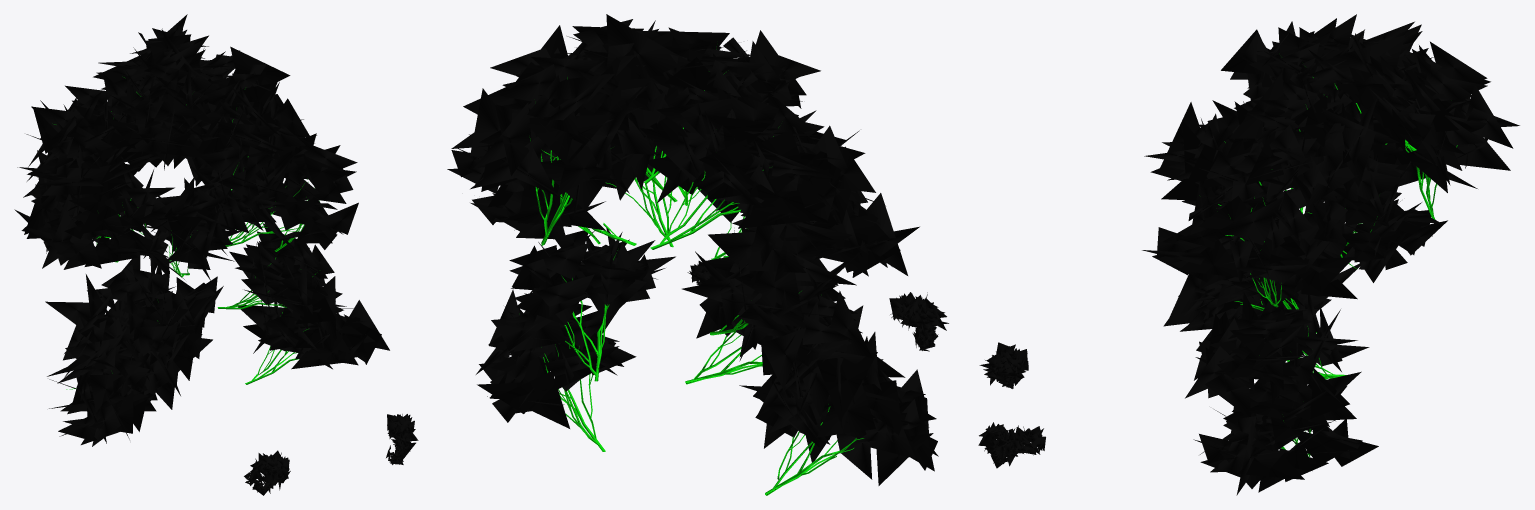
3 renders of one model, left to right at view 1: azimuth 30°, elevation 25°; view 2: azimuth 150°, elevation 25°; view 3: azimuth 270°, elevation 25°, orthographic. The views are drawn at different scales.
Parts seen in each view (by area): view 1: G:\FFXIV-MapTools\exports\f1f2\bg\ffxiv\fst_f1\fld\f1f2\bgpa (×2); view 2: G:\FFXIV-MapTools\exports\f1f2\bg\ffxiv\fst_f1\fld\f1f2\bgpa (×2); view 3: G:\FFXIV-MapTools\exports\f1f2\bg\ffxiv\fst_f1\fld\f1f2\bgpa (×2).
Part boxes in pixels (bbox=[...]): G:\FFXIV-MapTools\exports\f1f2\bg\ffxiv\fst_f1\fld\f1f2\bgpa (×2): bbox=[14, 14, 418, 495]; G:\FFXIV-MapTools\exports\f1f2\bg\ffxiv\fst_f1\fld\f1f2\bgpa (×2): bbox=[447, 14, 948, 495]; G:\FFXIV-MapTools\exports\f1f2\bg\ffxiv\fst_f1\fld\f1f2\bgpa (×2): bbox=[978, 14, 1519, 495].
Size of the model in its own units: 25.95 by 25.48 by 31.01.
